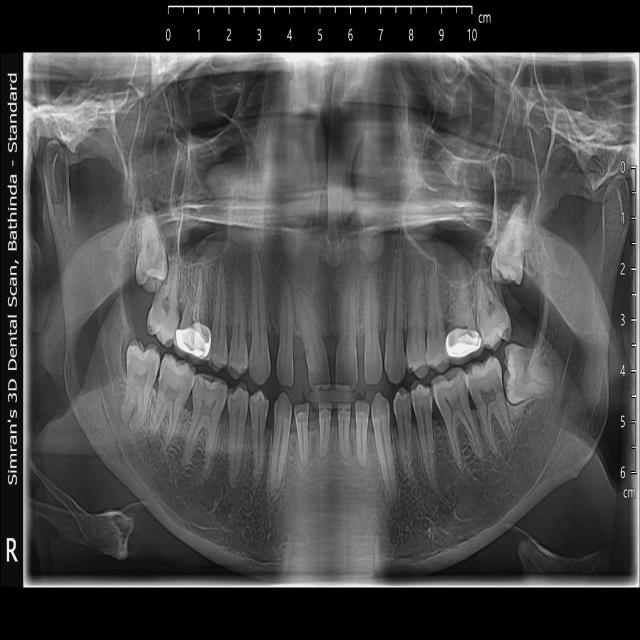Crown: (446, 324, 483, 362), (175, 326, 210, 363)
Root Canal Treatment: (175, 262, 211, 360)
